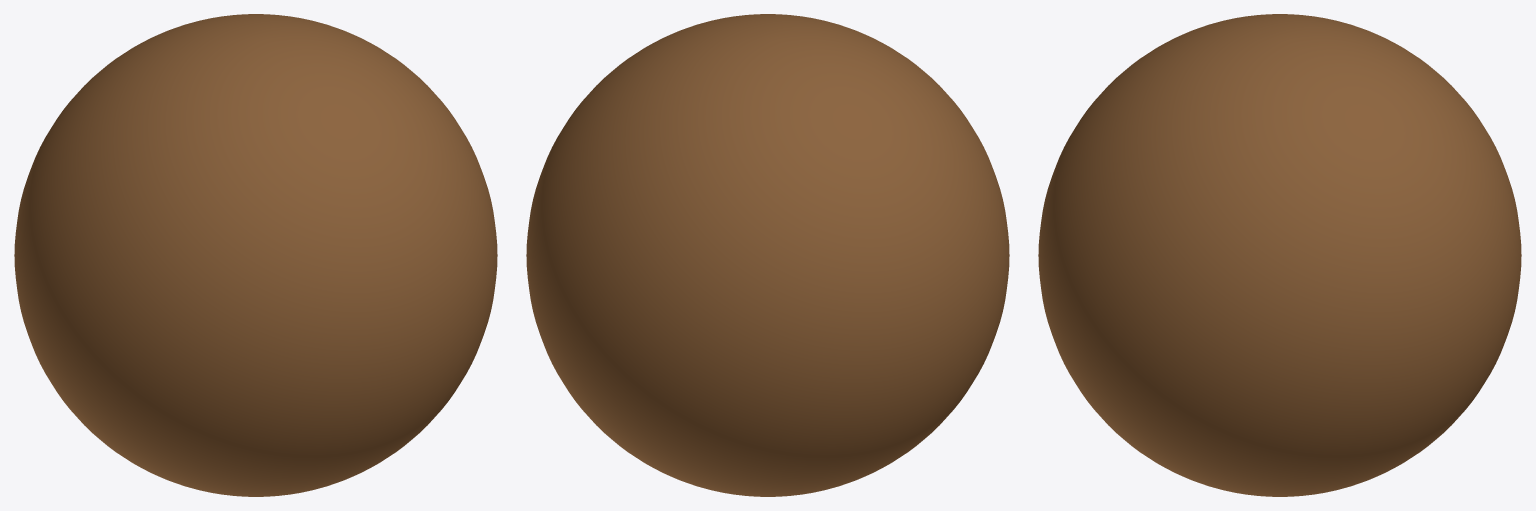
The model's file is particle1.gltf.
3 renders of one model, left to right at view 1: azimuth 30°, elevation 25°; view 2: azimuth 150°, elevation 25°; view 3: azimuth 270°, elevation 25°, orthographic.
Parts seen in each view (by area): view 1: Kugel; view 2: Kugel; view 3: Kugel.
Boxes of the visible parts, <box> form: Kugel: <box>14,14,497,496</box>; Kugel: <box>526,14,1009,496</box>; Kugel: <box>1038,14,1521,496</box>.
Bounding box in the file's own units: 0.2 × 0.2 × 0.2.
